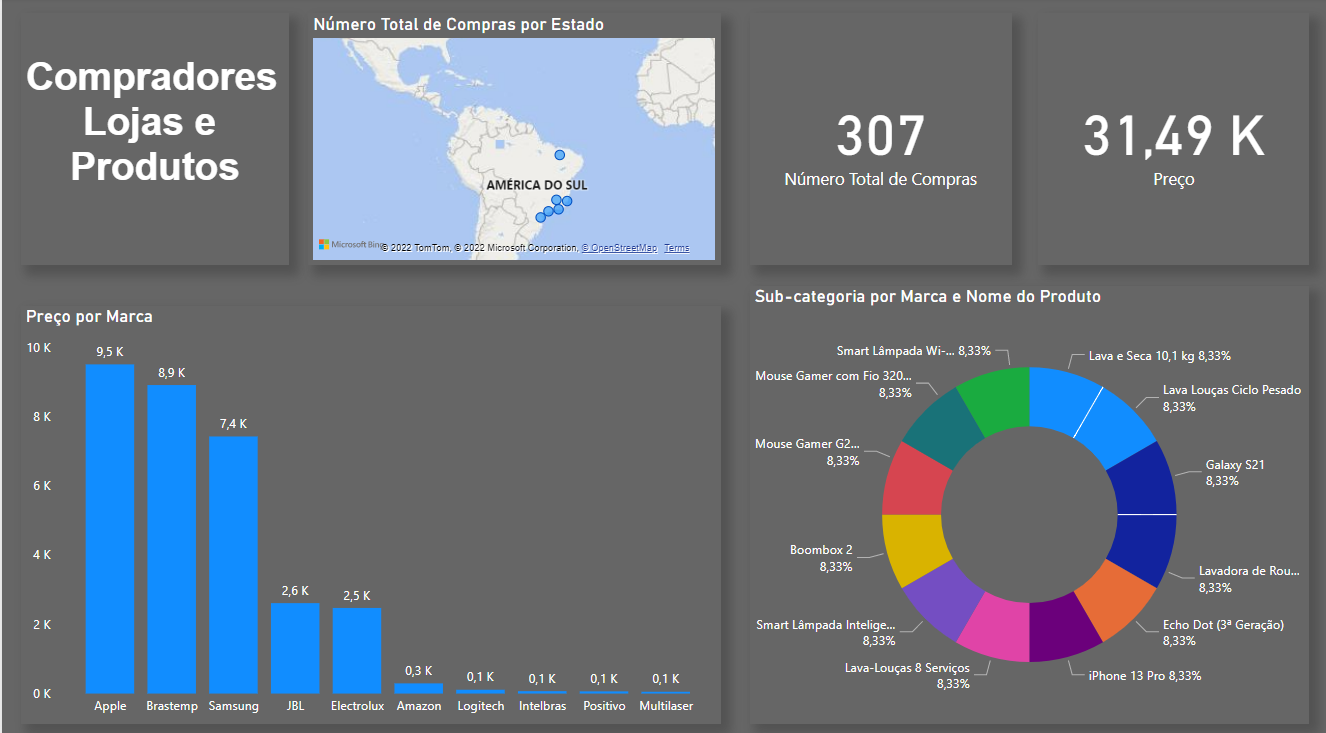

What the dashboard file says about the page in this screenshot:
{"tool":"powerbi","page":{"name":"Página 1","canvas":[1280,720],"ordinal":0},"visuals":[{"type":"card","fields":{"Values":["Sum(Compradores.Número Total de Compras)"]},"box":[721.4,15.8,252.9,242.9],"z":0},{"type":"card","fields":{"Values":["Sum(Produtos.Preço)"]},"box":[1000.2,15.8,261.6,242.9],"z":1},{"type":"donutChart","title":"Sub-categoria por Marca e Nome do Produto","fields":{"Category":["Produtos.Marca"],"Y":["CountNonNull(Produtos.Sub-categoria)"],"Series":["Produtos.Nome do Produto"]},"box":[721.4,278.8,540.4,422.5],"z":2},{"type":"map","fields":{"Category":["Lojas.Estado"],"Size":["Sum(Compradores.Número Total de Compras)"]},"box":[296,15.8,398.1,242.9],"z":3},{"type":"clusteredColumnChart","fields":{"Category":["Produtos.Marca"],"Y":["Sum(Produtos.Preço)"]},"box":[18.7,297.5,675.4,403.8],"z":4},{"type":"textbox","box":[18.7,15.8,258.7,242.9],"z":5}]}

Visuals, with their boxes in screenshot pixels (x1, y1, x2, y2), scaled from the page's 1280x720 canvas onto the 1326x733 screenshot:
card - Sum(Compradores.Número Total de Compras): <region>747, 16, 1009, 263</region>
card - Sum(Produtos.Preço): <region>1036, 16, 1307, 263</region>
"Sub-categoria por Marca e Nome do Produto" donutChart: <region>747, 284, 1307, 714</region>
map - Lojas.Estado x Sum(Compradores.Número Total de Compras): <region>307, 16, 719, 263</region>
clusteredColumnChart - Produtos.Marca x Sum(Produtos.Preço): <region>19, 303, 719, 714</region>
textbox: <region>19, 16, 287, 263</region>
